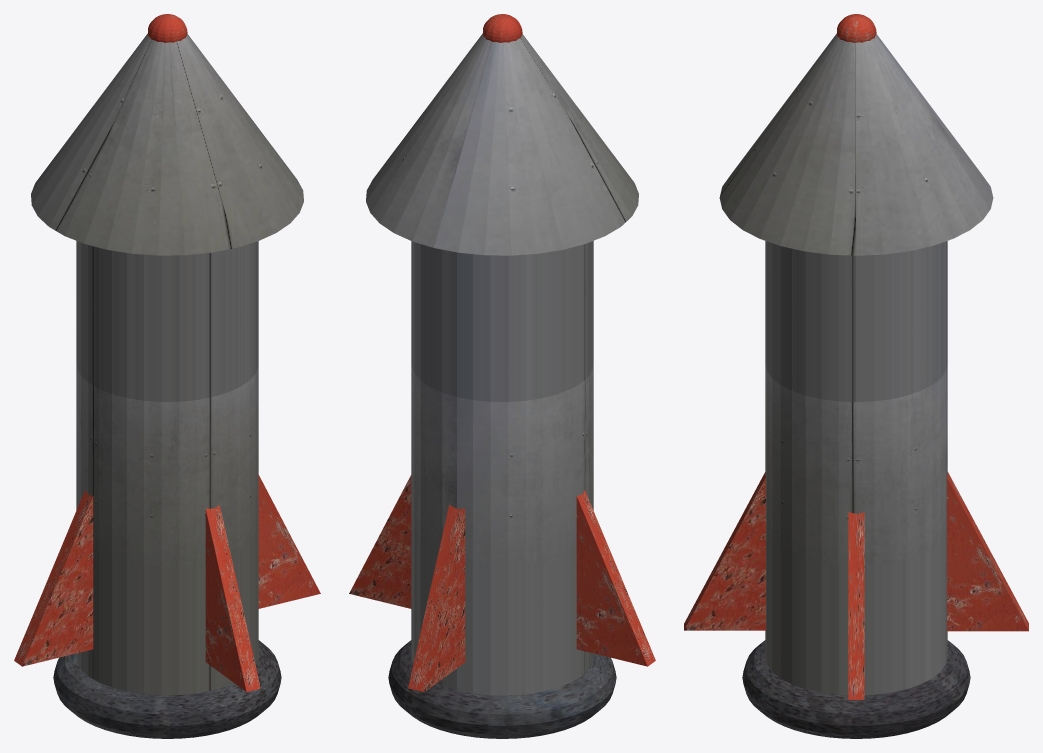
Rendered from Missile.glb.
3 renders of one model, left to right at view 1: azimuth 30°, elevation 25°; view 2: azimuth 150°, elevation 25°; view 3: azimuth 270°, elevation 25°, orthographic.
Parts seen in each view (by area): view 1: Cylinder, Cone, Torus, Cube.002, Cube.003, Cube, Sphere; view 2: Cylinder, Cone, Torus, Cube.002, Cube.001, Cube, Sphere; view 3: Cylinder, Cone, Torus, Cube.001, Cube.003, Cube, Sphere.
Boxes of the visible parts, <box> form: Cylinder: <box>76,241,258,695</box>; Cone: <box>31,33,303,255</box>; Torus: <box>53,640,281,738</box>; Cube.002: <box>14,490,93,666</box>; Cube.003: <box>205,505,260,691</box>; Cube: <box>258,475,320,608</box>; Sphere: <box>148,14,187,42</box>; Cylinder: <box>411,241,593,695</box>; Cone: <box>366,33,638,255</box>; Torus: <box>388,640,616,738</box>; Cube.002: <box>576,490,655,666</box>; Cube.001: <box>408,505,465,692</box>; Cube: <box>349,475,411,608</box>; Sphere: <box>483,14,522,42</box>; Cylinder: <box>765,241,947,695</box>; Cone: <box>719,33,993,255</box>; Torus: <box>742,640,970,738</box>; Cube.001: <box>947,472,1028,631</box>; Cube.003: <box>684,472,765,630</box>; Cube: <box>848,512,864,699</box>; Sphere: <box>837,14,876,42</box>.
Bounding box in the file's own units: 3.78 × 8.25 × 3.78.
3 materials, 3 textured.
